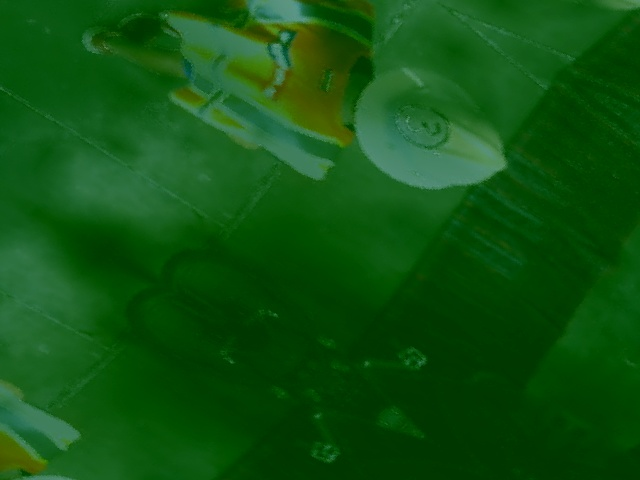three: (386, 93, 459, 156)
